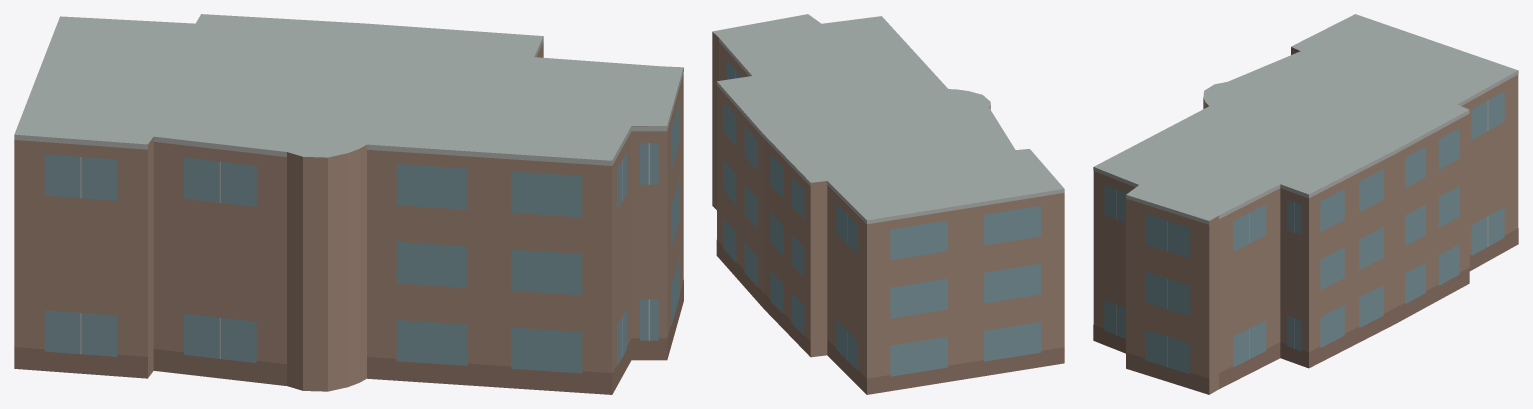
Rendered from survey-upis-32976799.glb.
3 views of the same model, side by side, from view 1: azimuth 30°, elevation 25°; view 2: azimuth 150°, elevation 25°; view 3: azimuth 270°, elevation 25° (orthographic). The views are drawn at different scales.
Parts seen in each view (by area): view 1: survey-upis-32976799.tmp; view 2: survey-upis-32976799.tmp; view 3: survey-upis-32976799.tmp.
Part boxes in pixels (box(x1,y1,x2,y2)): survey-upis-32976799.tmp: box(14, 14, 683, 394); survey-upis-32976799.tmp: box(712, 14, 1064, 394); survey-upis-32976799.tmp: box(1093, 14, 1518, 394).
Bounding box in the file's own units: 28.1 × 11 × 24.37.
